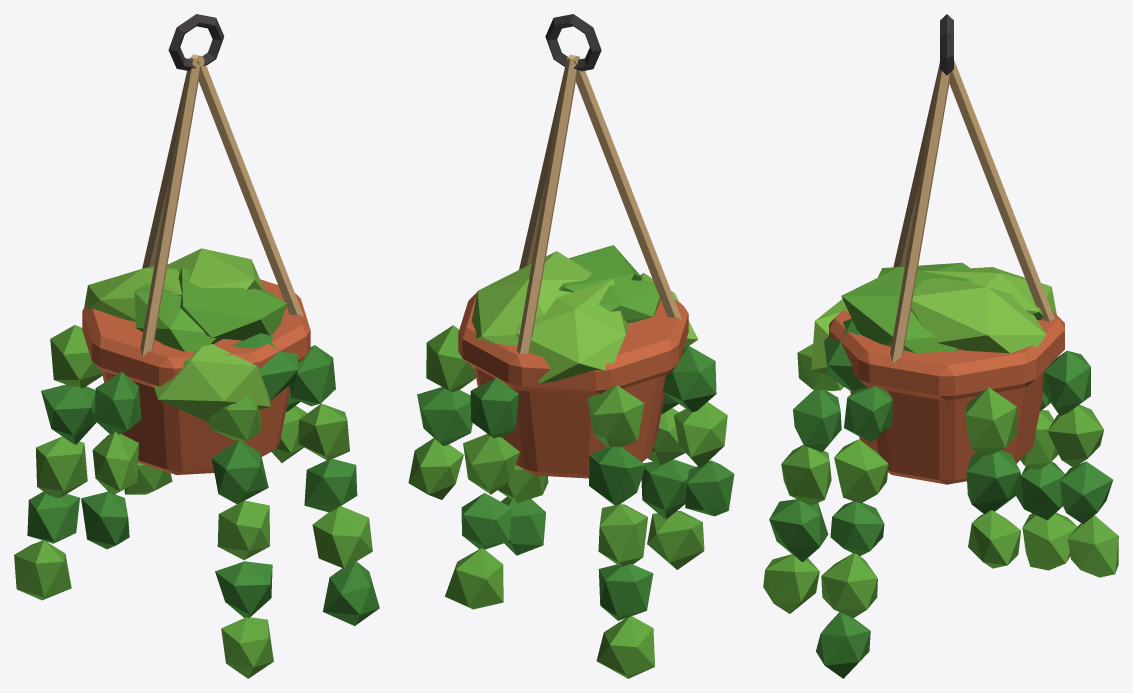
Rendered from plant_hanging.glb.
The picture shows the model from 3 angles, left to right: view 1: azimuth 30°, elevation 25°; view 2: azimuth 150°, elevation 25°; view 3: azimuth 270°, elevation 25°; orthographic projection.
Visible parts, largest first — view 1: part_planter, plant_hanging; view 2: part_planter, plant_hanging; view 3: part_planter, plant_hanging.
Part boxes in pixels (x1,y1,x2,y2): part_planter: (14,54,379,678); plant_hanging: (168,14,224,70); part_planter: (408,54,734,678); plant_hanging: (545,14,601,71); part_planter: (763,60,1118,678); plant_hanging: (940,14,953,75).
Bounding box in the file's own units: 0.364 × 0.782 × 0.412.
